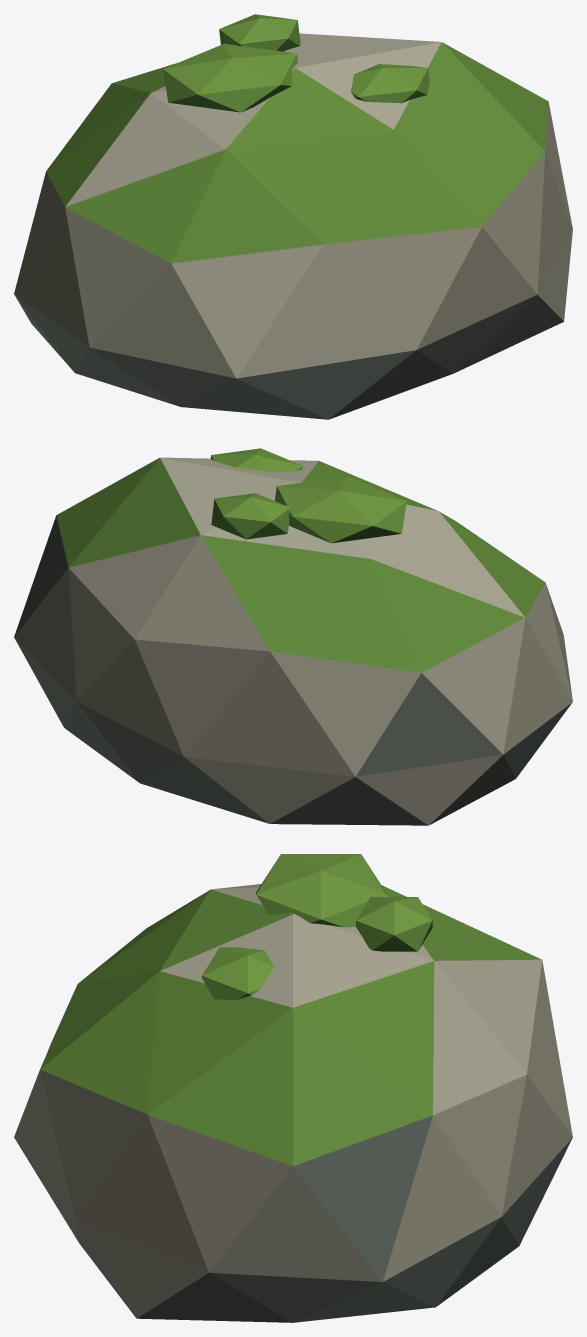
The model's file is rock_mossy_boulder.glb.
3 renders of one model, top to bottom at view 1: azimuth 30°, elevation 25°; view 2: azimuth 150°, elevation 25°; view 3: azimuth 270°, elevation 25°, orthographic. The views are drawn at different scales.
Visible parts, largest first — view 1: rock_mossy_boulder; view 2: rock_mossy_boulder; view 3: rock_mossy_boulder.
Part boxes in pixels (left/top/right/bottom): rock_mossy_boulder: left=14, top=14, right=572, bottom=419; rock_mossy_boulder: left=14, top=448, right=572, bottom=825; rock_mossy_boulder: left=14, top=854, right=572, bottom=1322.
Bounding box in the file's own units: 1.19 × 0.6448 × 0.9935.
1 material, 1 textured.
